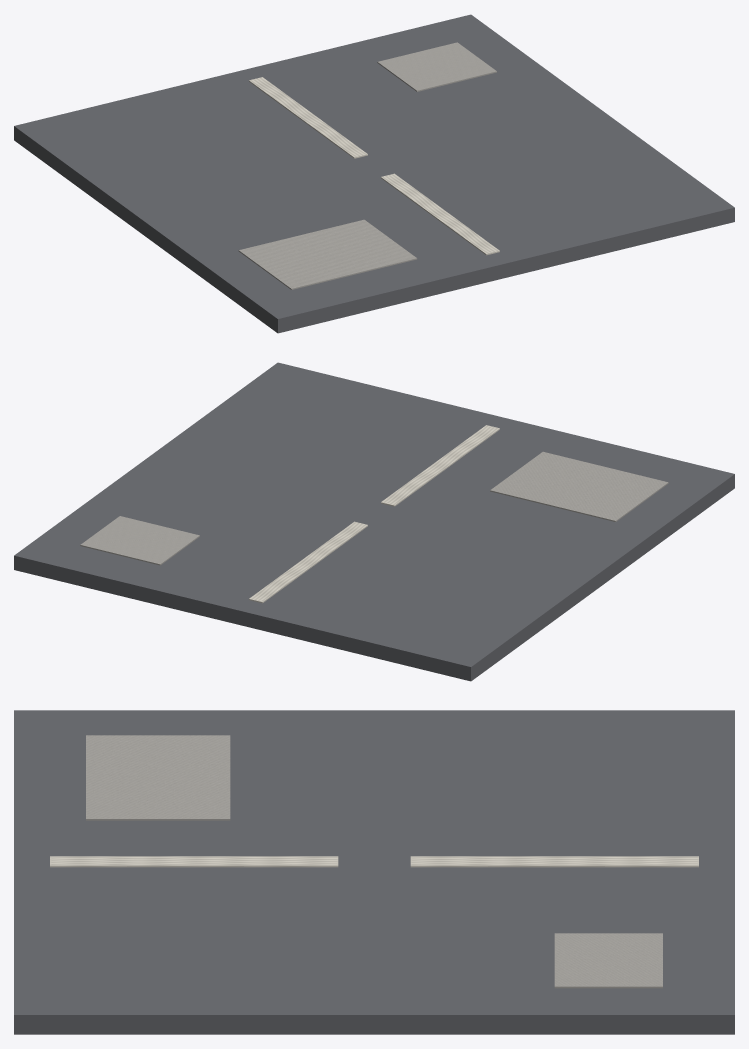
The model's file is road-module.glb.
3 renders of one model, top to bottom at view 1: azimuth 30°, elevation 25°; view 2: azimuth 150°, elevation 25°; view 3: azimuth 270°, elevation 25°, orthographic. The views are drawn at different scales.
Visible parts, largest first — view 1: street-road-module-charcoal, street-road-module-stone, street-road-module-plaster; view 2: street-road-module-charcoal, street-road-module-stone, street-road-module-plaster; view 3: street-road-module-charcoal, street-road-module-stone, street-road-module-plaster.
Part boxes in pixels (box(x1,y1,x2,y2)): street-road-module-charcoal: box(14, 14, 734, 333); street-road-module-stone: box(238, 42, 496, 289); street-road-module-plaster: box(249, 77, 499, 255); street-road-module-charcoal: box(14, 362, 734, 681); street-road-module-stone: box(80, 451, 668, 565); street-road-module-plaster: box(249, 425, 499, 603); street-road-module-charcoal: box(14, 710, 734, 1034); street-road-module-stone: box(86, 735, 662, 988); street-road-module-plaster: box(50, 856, 698, 867).
Size of the model in its own units: 4 by 0.1301 by 4.
3 materials, 2 textured.
